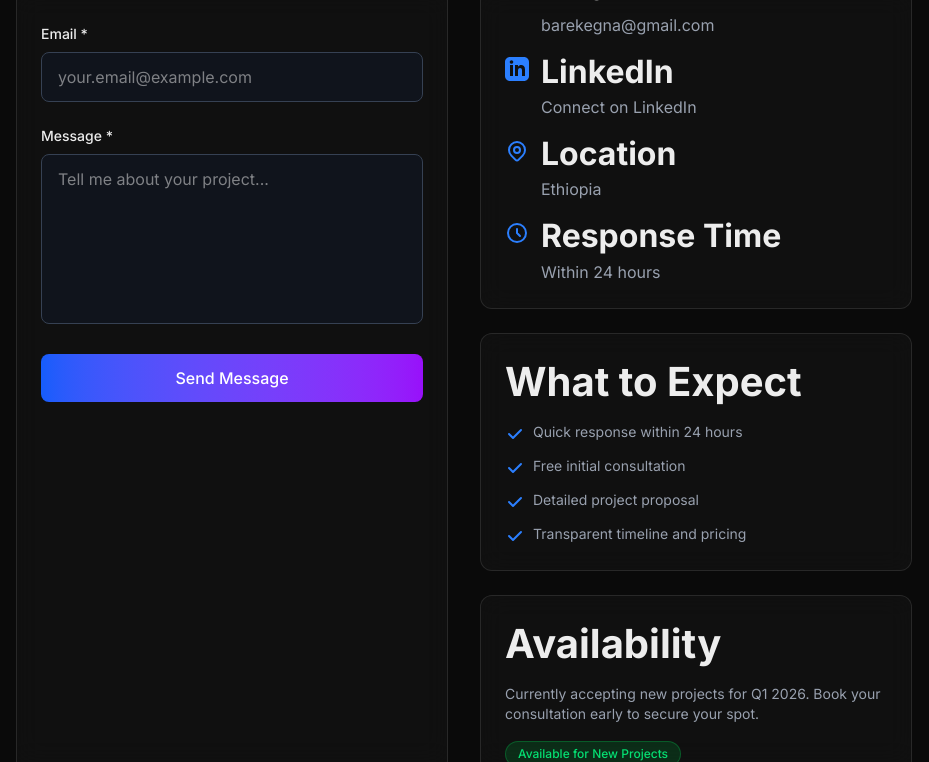
Test: Contact Form › should show error when name field is empty
(page scrolled)
Click the button "Send Message" at coordinates (232, 378), box 41,354 -> 423,402
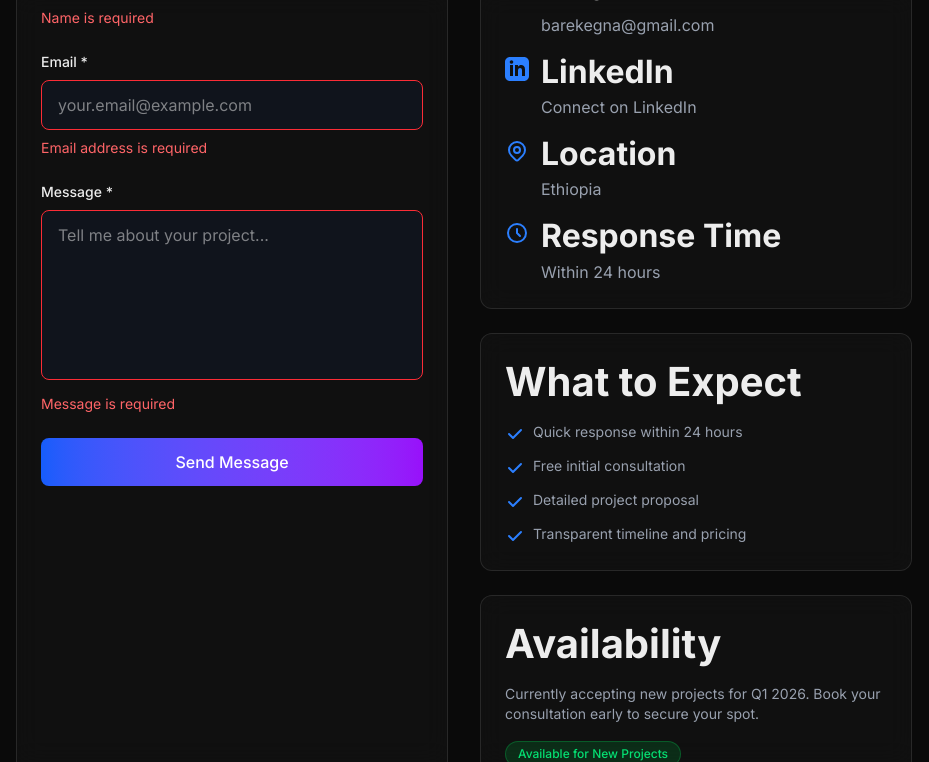
Now the text "Name is required" is shown, box 41,9 -> 154,26
